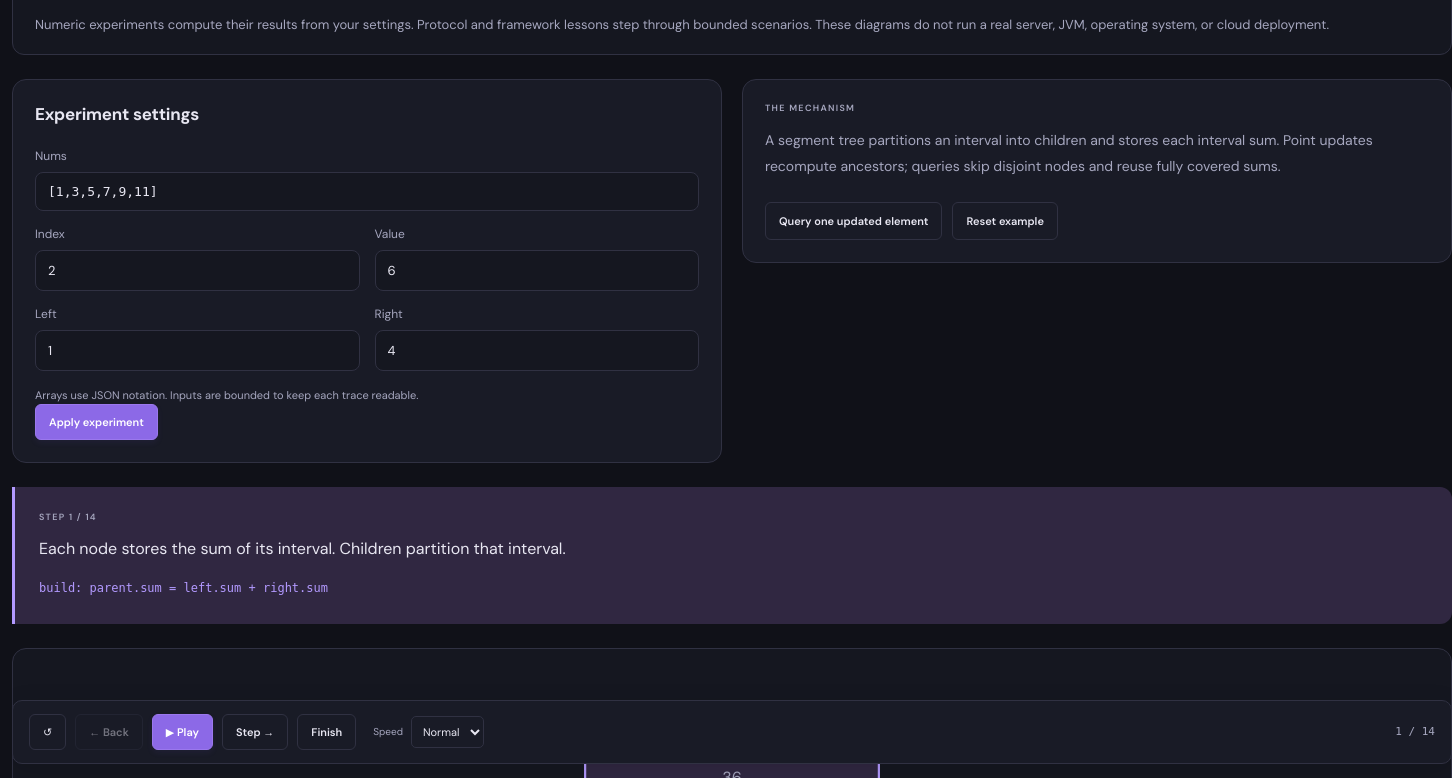
Test: adv-segment supports valid alternate input, finish and highlighted code
Click the button "Query one updated element".
click(854, 221)  # box 765,202 -> 942,240
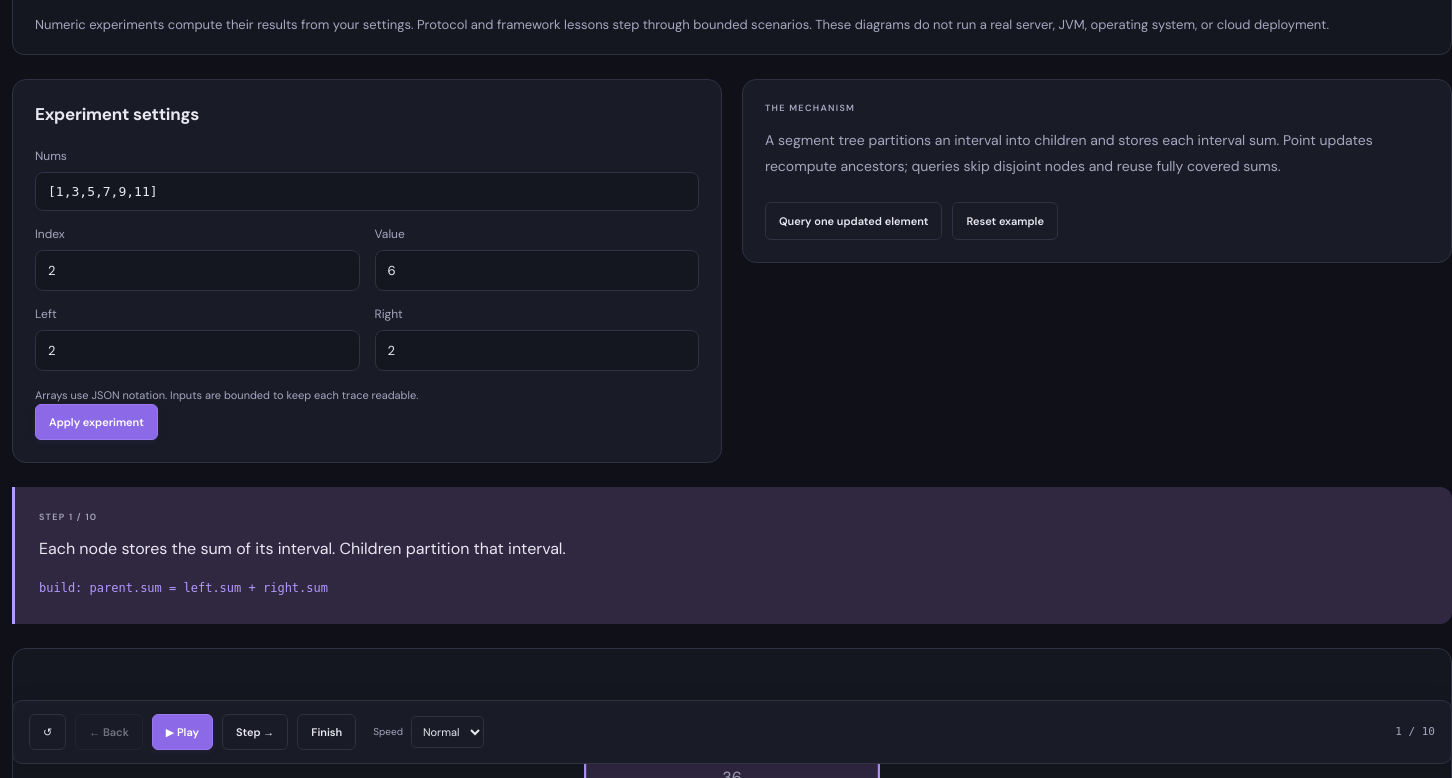
Click the button "Finish".
click(327, 732)  # box 297,714 -> 356,750
(page scrolled)
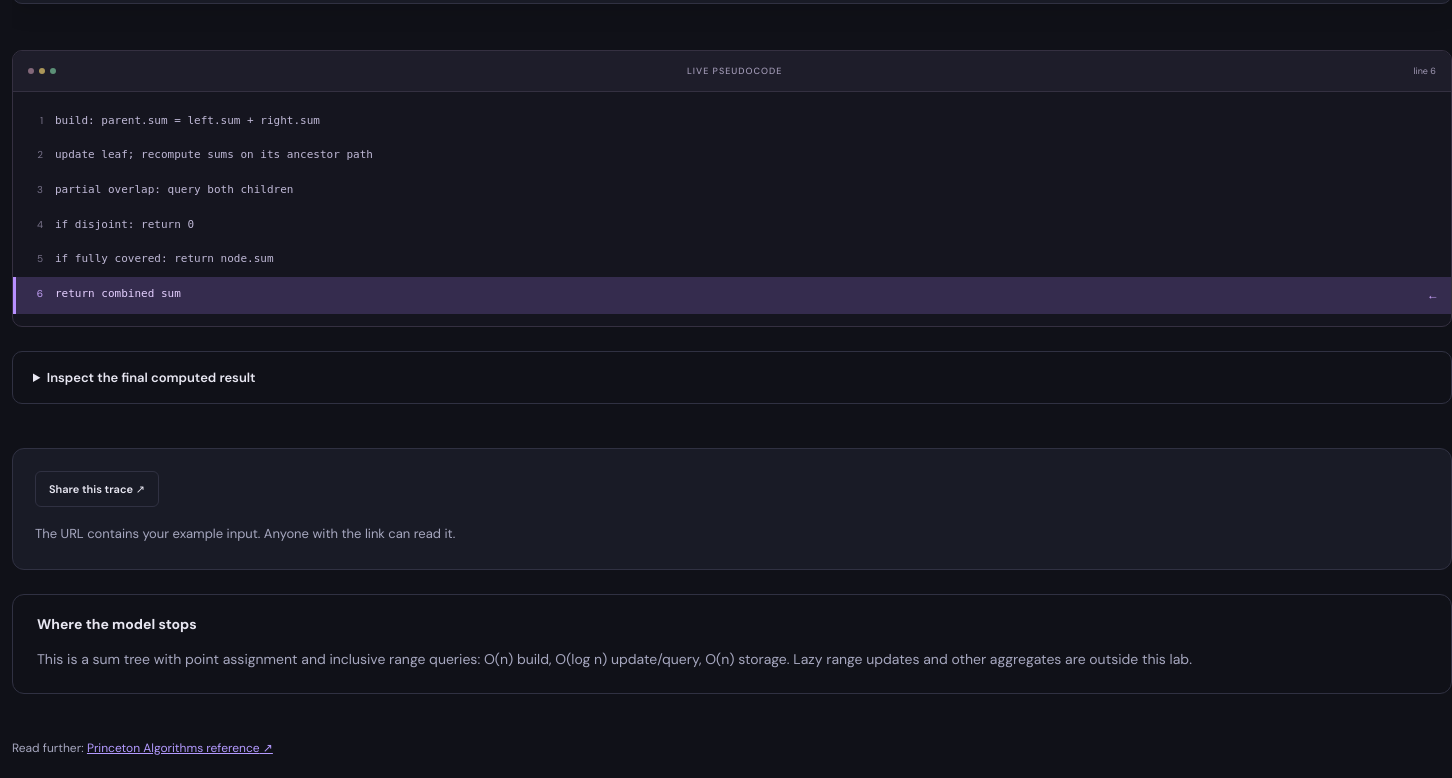
Check: the heading "Inspect the final computed result" is shown, box 47,368 -> 256,386
